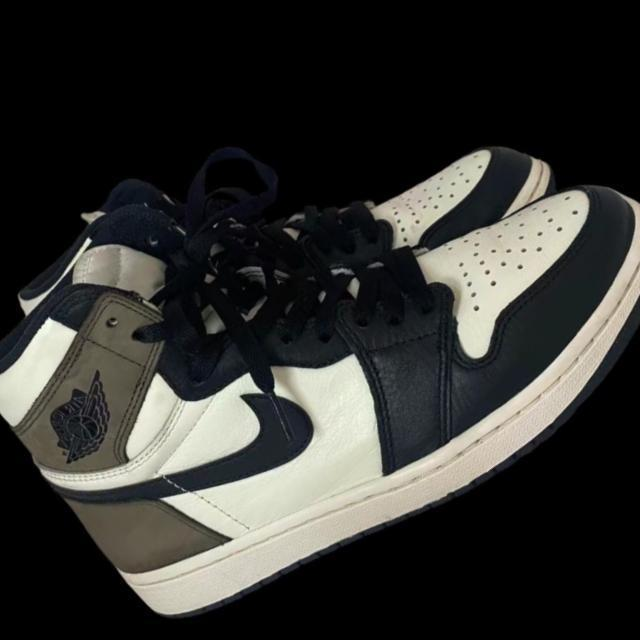nike original jordan 1: (0, 0, 640, 640), (0, 0, 565, 512)
